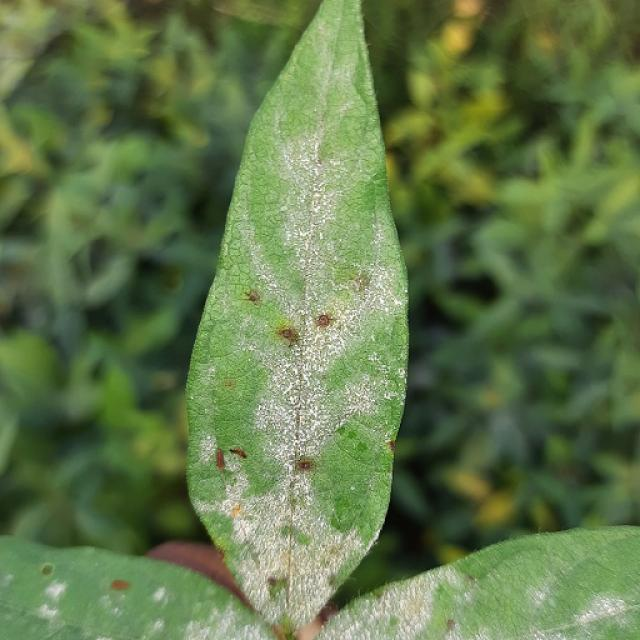Blackgram: (188, 0, 406, 626)
Powdery_Mildew: (239, 252, 388, 464), (207, 470, 384, 632), (264, 132, 375, 339), (413, 566, 640, 639), (8, 563, 196, 637), (256, 362, 344, 470), (256, 344, 343, 443), (235, 518, 335, 599), (514, 533, 629, 597), (323, 338, 397, 431), (284, 173, 342, 272), (313, 71, 373, 159), (358, 577, 444, 633), (342, 263, 401, 338), (212, 243, 273, 315), (92, 581, 167, 635), (208, 378, 257, 447), (173, 610, 276, 640), (559, 594, 632, 633), (305, 313, 358, 366), (299, 532, 355, 573), (33, 577, 71, 624), (244, 452, 282, 497), (219, 233, 251, 276), (230, 507, 265, 545), (306, 177, 330, 231), (430, 581, 461, 621), (522, 578, 560, 609), (403, 587, 432, 624), (180, 619, 221, 640), (277, 375, 300, 402), (44, 580, 68, 602), (36, 603, 60, 621), (146, 619, 166, 637), (330, 512, 348, 532), (151, 586, 168, 603), (109, 602, 125, 618), (296, 532, 312, 546), (221, 240, 232, 258), (1, 572, 14, 586), (231, 504, 242, 518), (93, 636, 117, 640), (279, 204, 288, 213), (189, 395, 195, 402)
